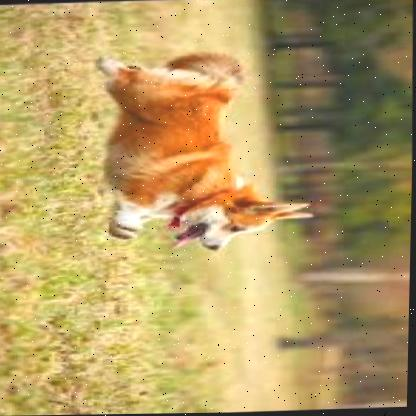dog: (90, 45, 317, 256)
